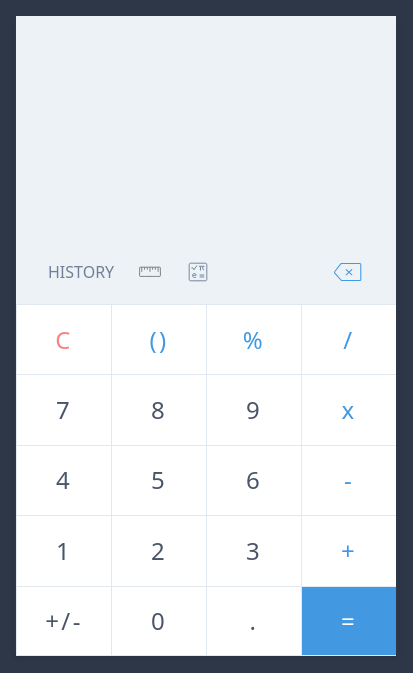
Test: applies rules of precedence
Click the element showing "2".
click(159, 550)  # box [111,515,206,585]
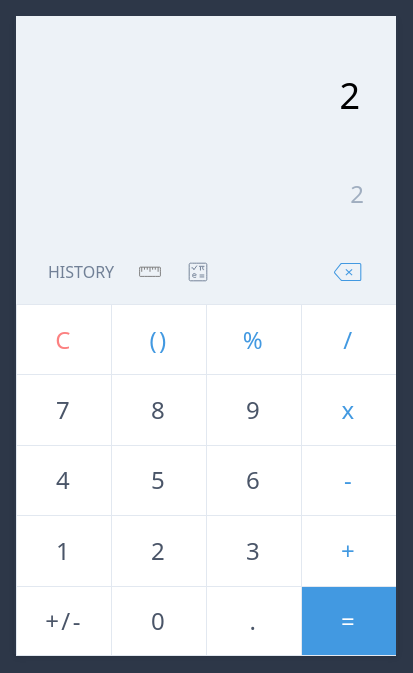
Click the element showing "+".
click(349, 550)  # box [301,515,396,585]
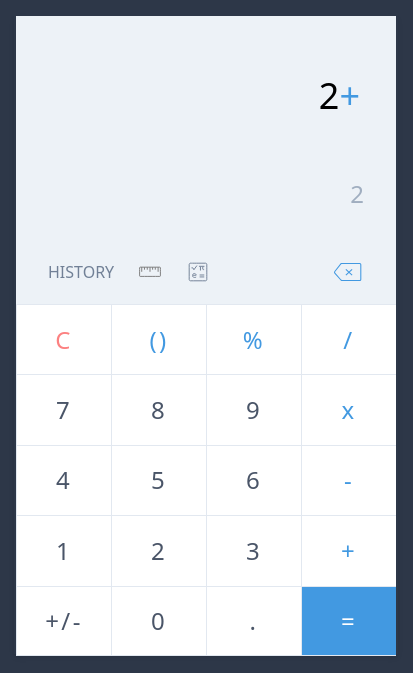
Click the element showing "9".
click(254, 409)  # box [206,374,301,444]
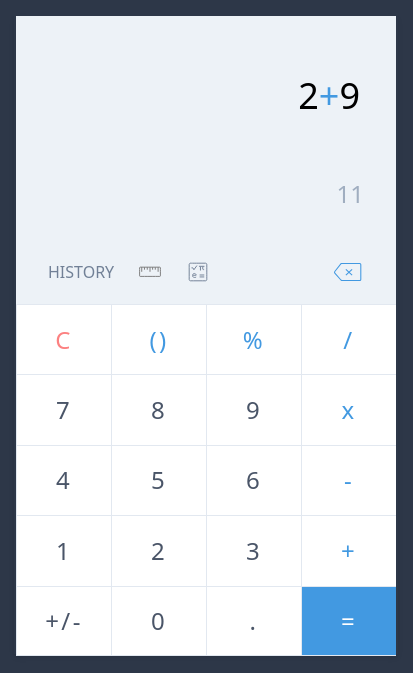
Click the element showing "x".
click(349, 409)  # box [301,374,396,444]
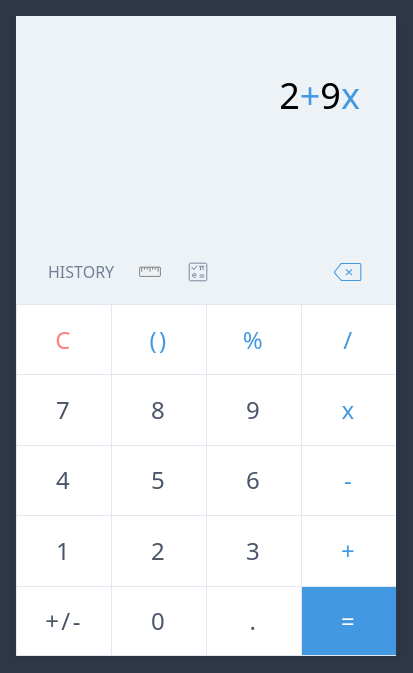
Click the element showing "2".
click(159, 550)  # box [111,515,206,585]
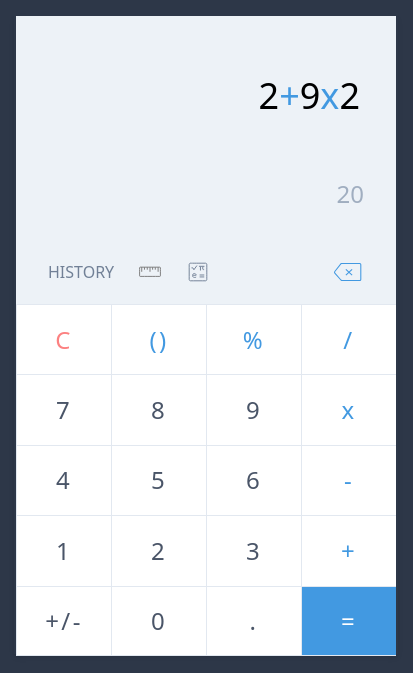
Click the element showing "=".
click(349, 621)  # box [301,586,396,656]
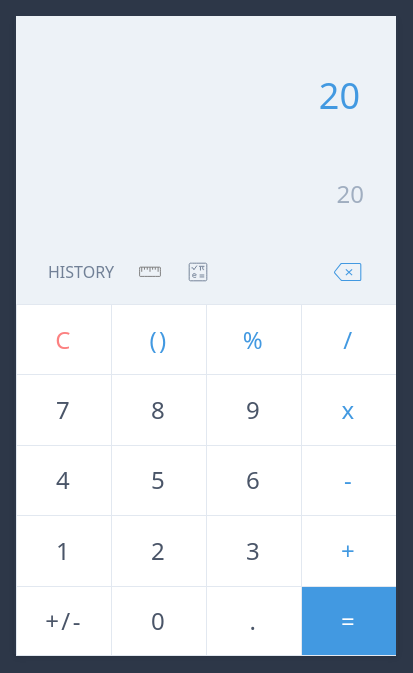
Check: the element with test id "calculator-input" reads "20", box [319,69,364,123]
